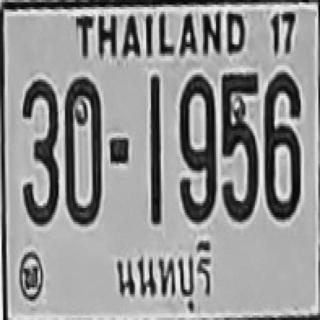N00: (64, 76, 101, 225)
N01: (149, 74, 162, 218)
N03: (22, 78, 59, 225)
N05: (221, 71, 258, 221)
N06: (263, 70, 300, 220)
N09: (179, 74, 214, 221)
P37: (107, 233, 218, 315)
